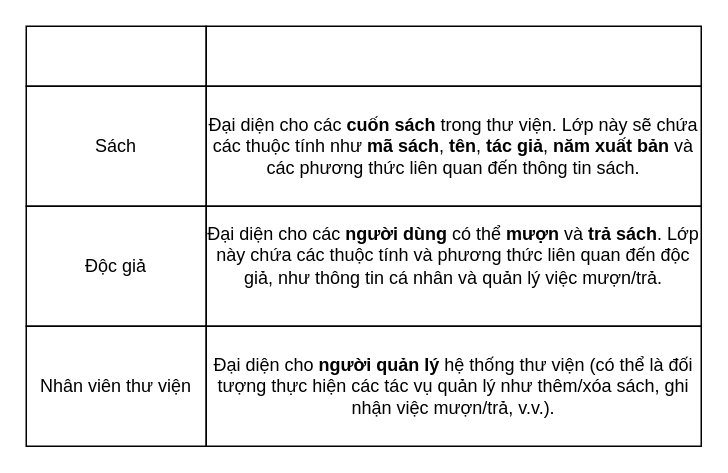
Some shapes in this 728 by 473 pixel diagram are drawn without their labels. Each missing label, with the centre of its shape:
"Tên lớp" goes at (x=115, y=55).
"Vai trò" goes at (x=453, y=55).
